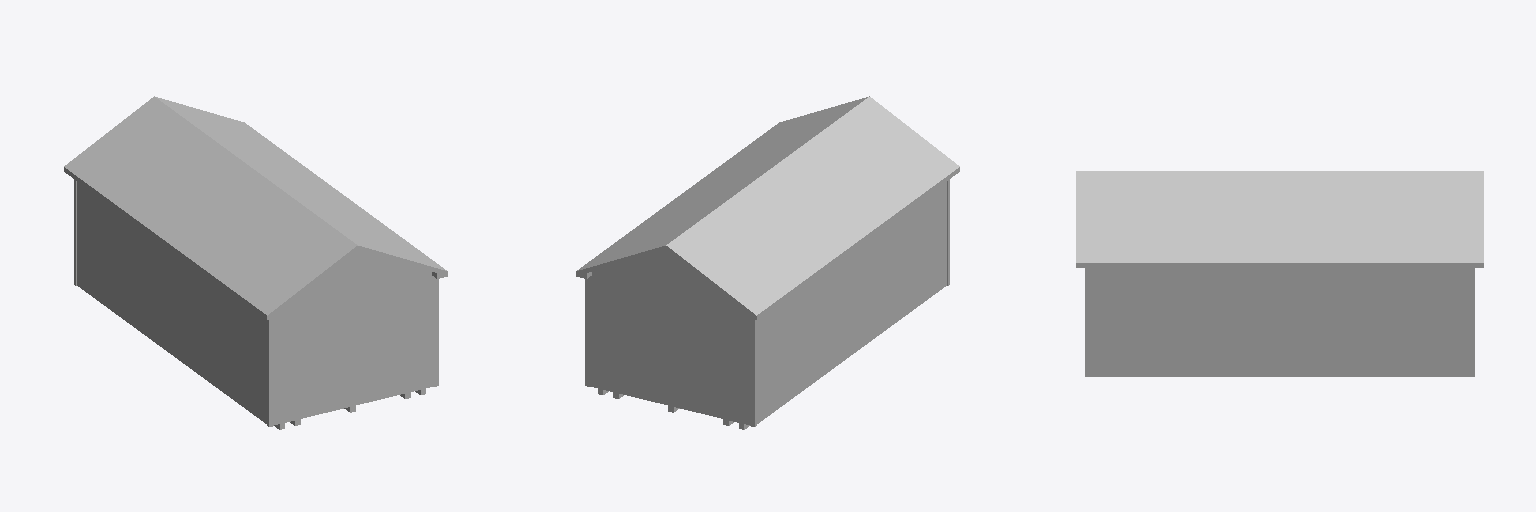
The model's file is Classic A-Frame_10x20.obj.
3 views of the same model, side by side, from view 1: azimuth 30°, elevation 25°; view 2: azimuth 150°, elevation 25°; view 3: azimuth 270°, elevation 25° (orthographic).
Parts seen in each view (by area): view 1: Classic A-Frame_10x20.obj; view 2: Classic A-Frame_10x20.obj; view 3: Classic A-Frame_10x20.obj.
Part boxes in pixels (x1,y1,x2,y2): Classic A-Frame_10x20.obj: (64, 96, 447, 429); Classic A-Frame_10x20.obj: (576, 96, 959, 429); Classic A-Frame_10x20.obj: (1076, 171, 1483, 376).
Bounding box in the file's own units: 3.29 × 2.96 × 6.4.